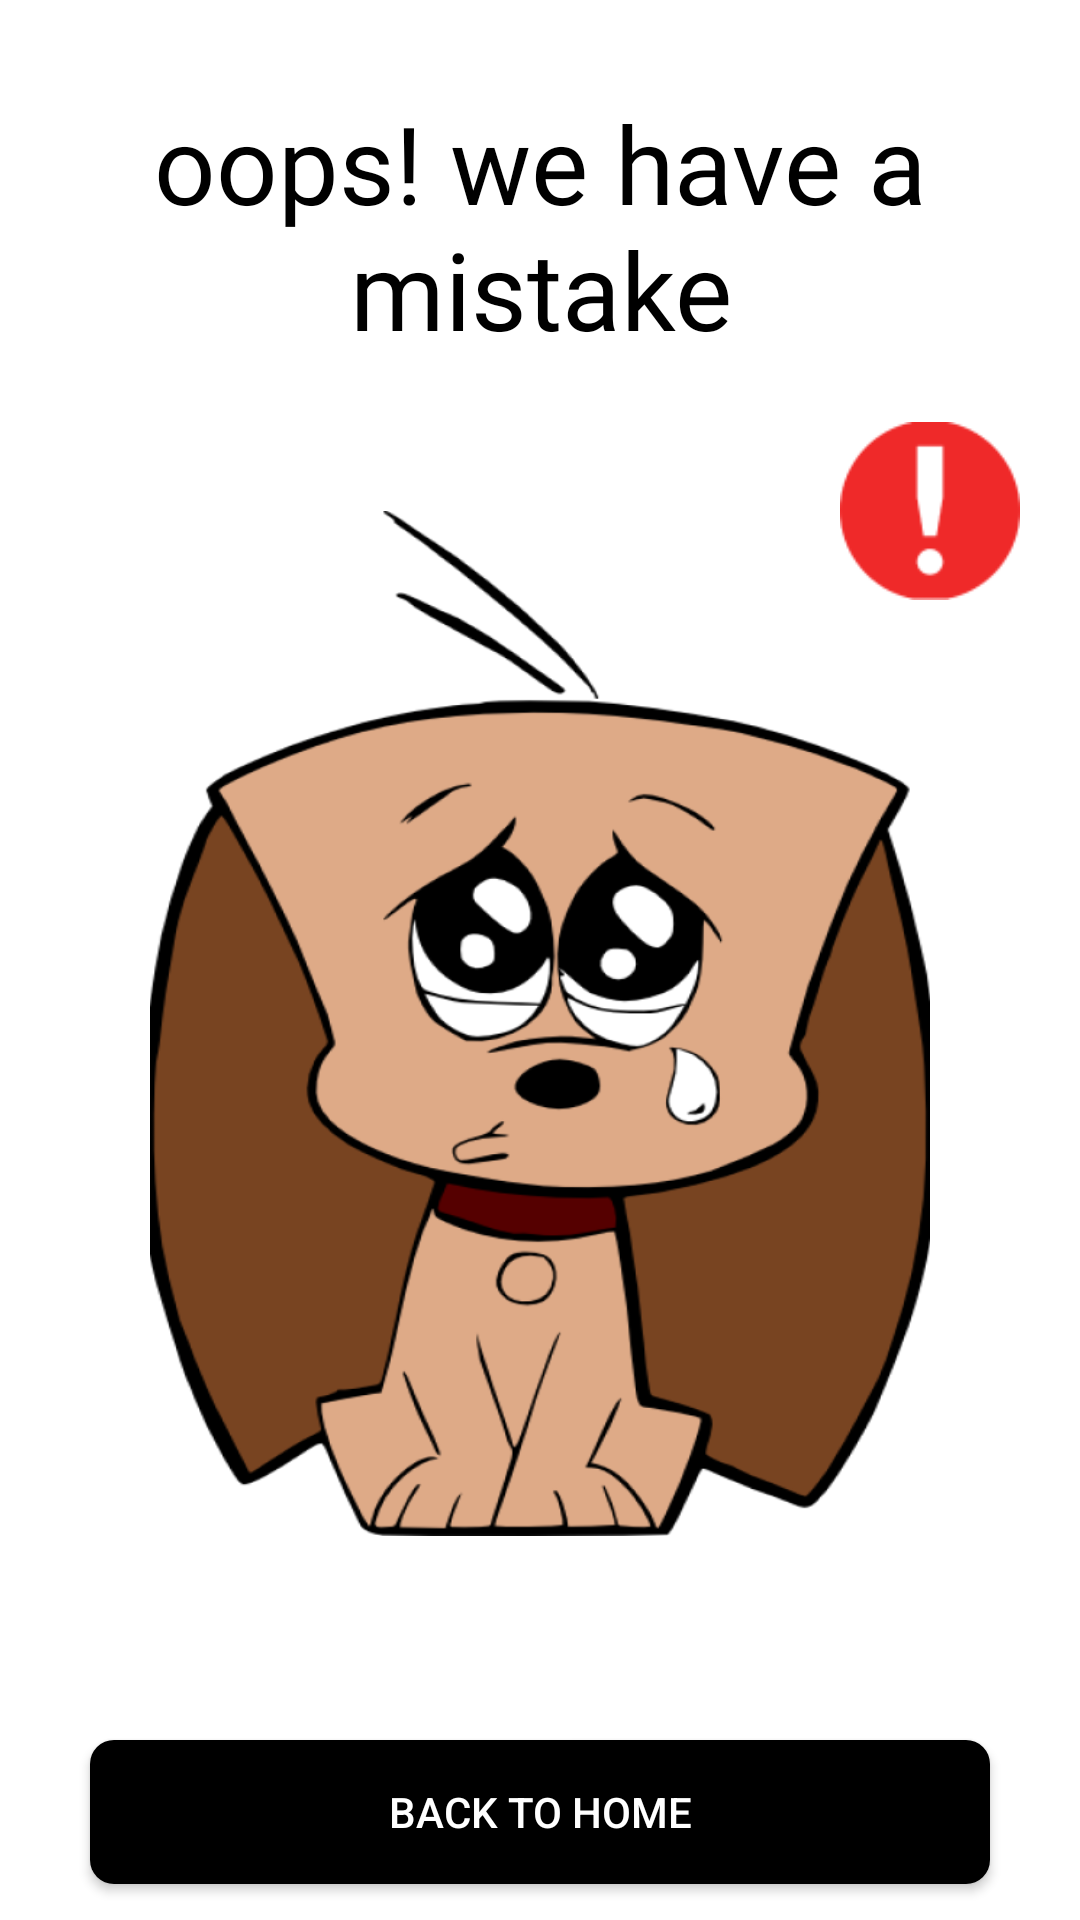

Icon click points for this 1080 x 1920 phone screenshot, format (x=x, y=y):
error adopt: (x=930, y=511)
